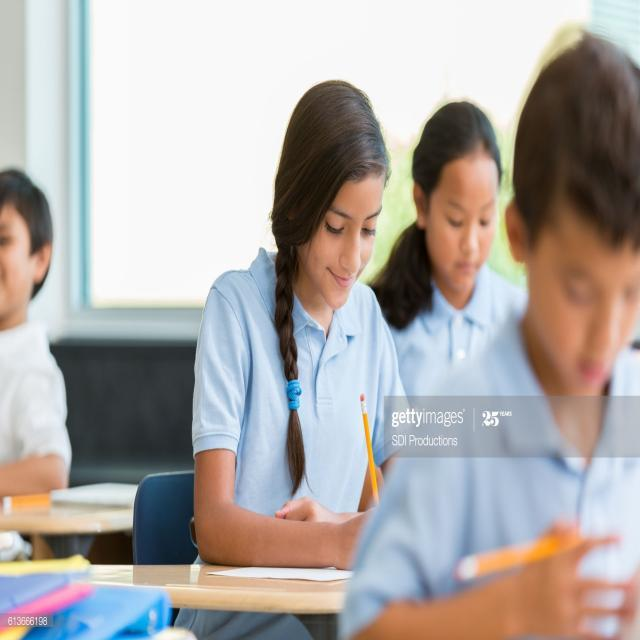good: (376, 25, 640, 640), (172, 46, 439, 603), (359, 75, 542, 411)
